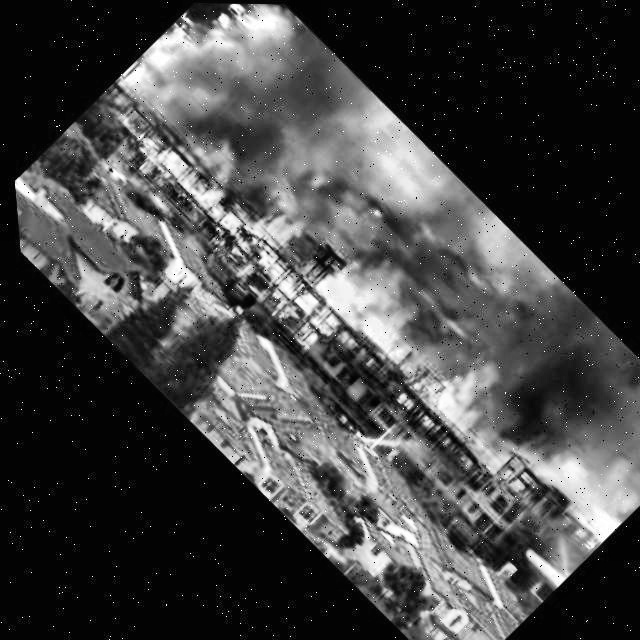Fire: (98, 52, 522, 471)
